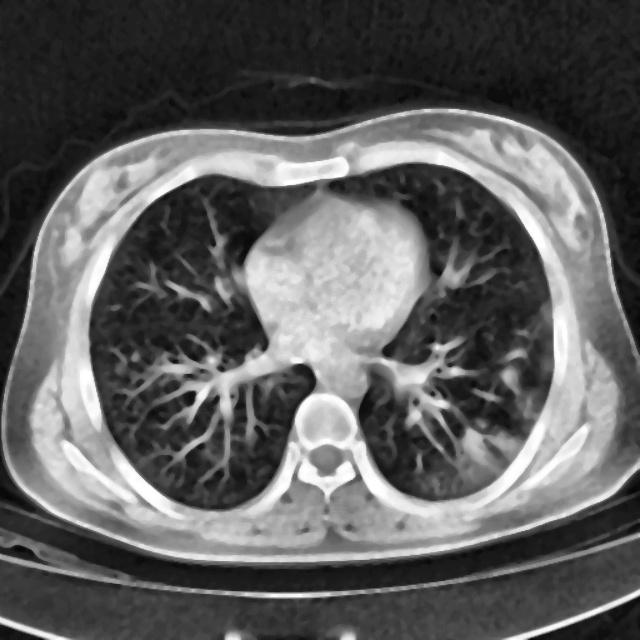covid: (1, 104, 638, 567)
